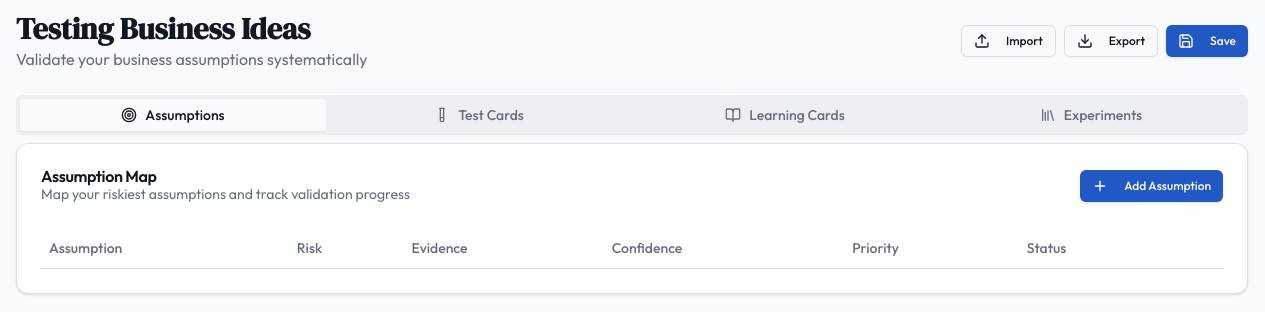
Scenario: TestingBusinessIdeasCanvas › Tab Navigation › switches to Test Cards tab
Click the tab "Test Cards" at (479,115), box [326,99,632,131]
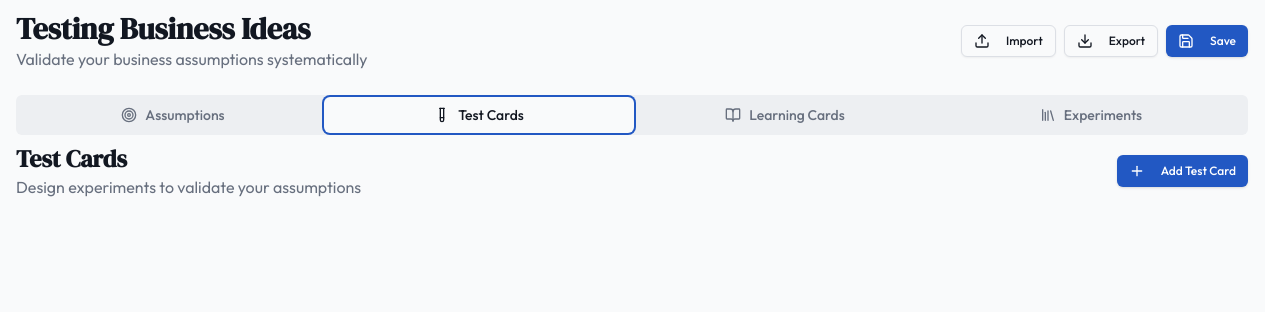
Expected: the heading "Test Cards" is shown, [16,142,127,175]
Expected: the text "Design experiments to validate your assumptions" is shown, [16,175,361,199]
Expected: the button "Add Test Card" is shown, [1117,155,1248,187]
